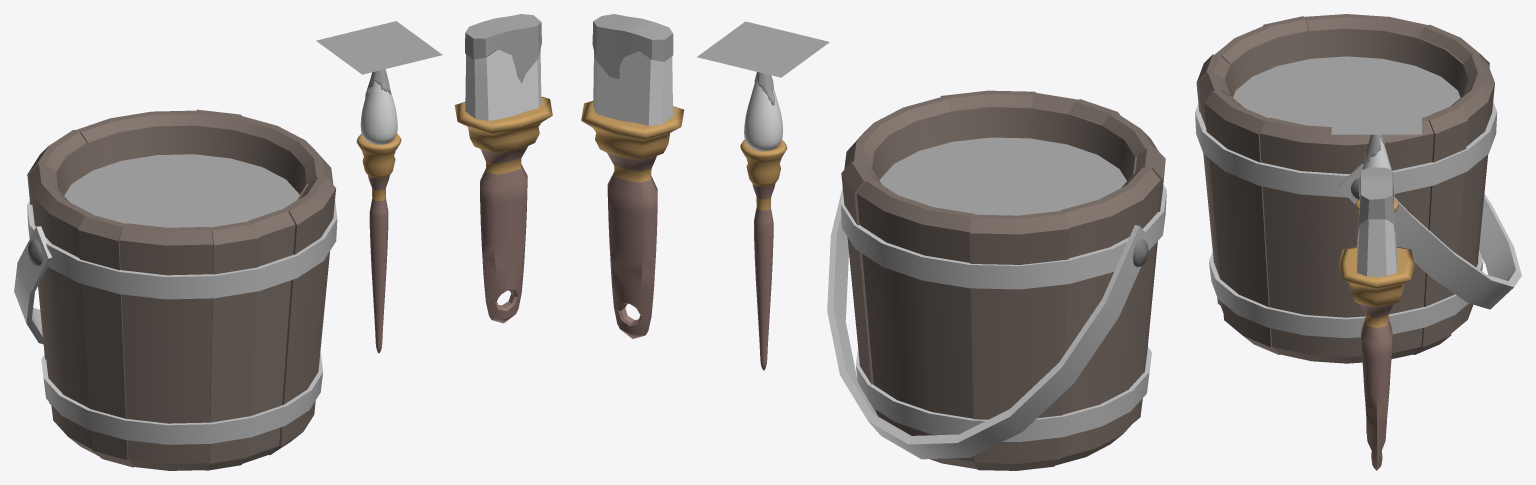
File: Pinsel_Eimer.fbx
3 views of the same model, side by side, from view 1: azimuth 30°, elevation 25°; view 2: azimuth 150°, elevation 25°; view 3: azimuth 270°, elevation 25° (orthographic). The views are drawn at different scales.
Visible parts, largest first — view 1: polySurface754, polySurface756, polySurface746, pCube84, pPlane1, pCube87; view 2: polySurface754, polySurface756, polySurface746, pCube84, pPlane1, pCube87; view 3: polySurface754, polySurface746, polySurface756, pPlane1, pCube87, pCube84.
Part boxes in pixels (x1,y1,x2,y2): polySurface754: (14,109,337,470); polySurface756: (454,49,552,323); polySurface746: (64,154,299,227); pCube84: (356,81,401,353); pPlane1: (316,21,442,74); pCube87: (465,14,541,83); polySurface754: (827,90,1166,470); polySurface756: (581,51,684,338); polySurface746: (879,137,1126,215); pCube84: (740,73,787,370); pPlane1: (697,21,829,77); pCube87: (592,14,673,79); polySurface754: (1195,14,1521,363); polySurface746: (1233,56,1460,126); polySurface756: (1339,204,1414,470); pPlane1: (1331,96,1421,134); pCube87: (1358,167,1395,233); pCube84: (1354,138,1399,212).
Bounding box in the file's own units: 243 × 137 × 135.
